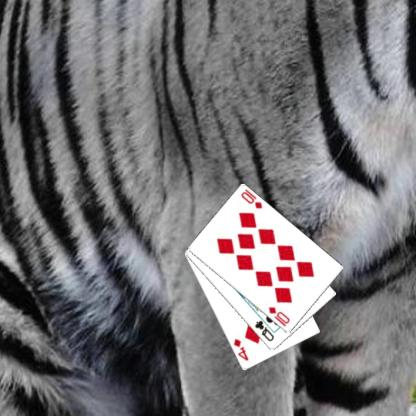10D: (268, 304, 293, 328), (240, 186, 265, 210)
4D: (233, 336, 252, 362)
QC: (254, 318, 277, 342)
